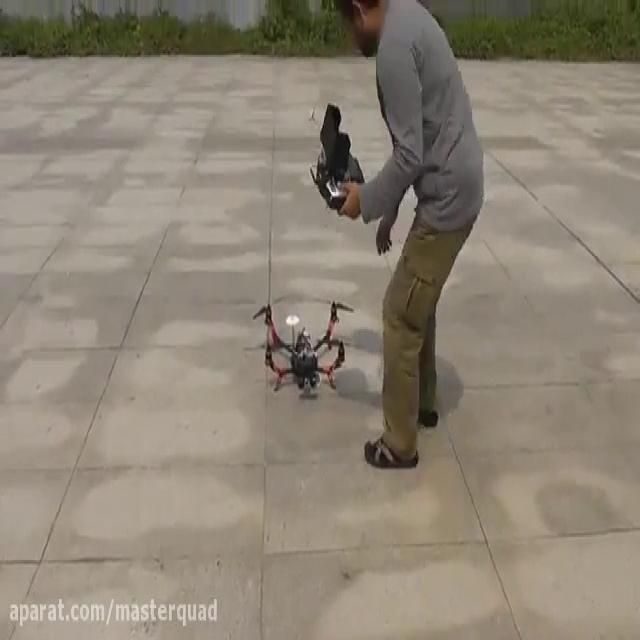drone: (249, 293, 357, 393)
